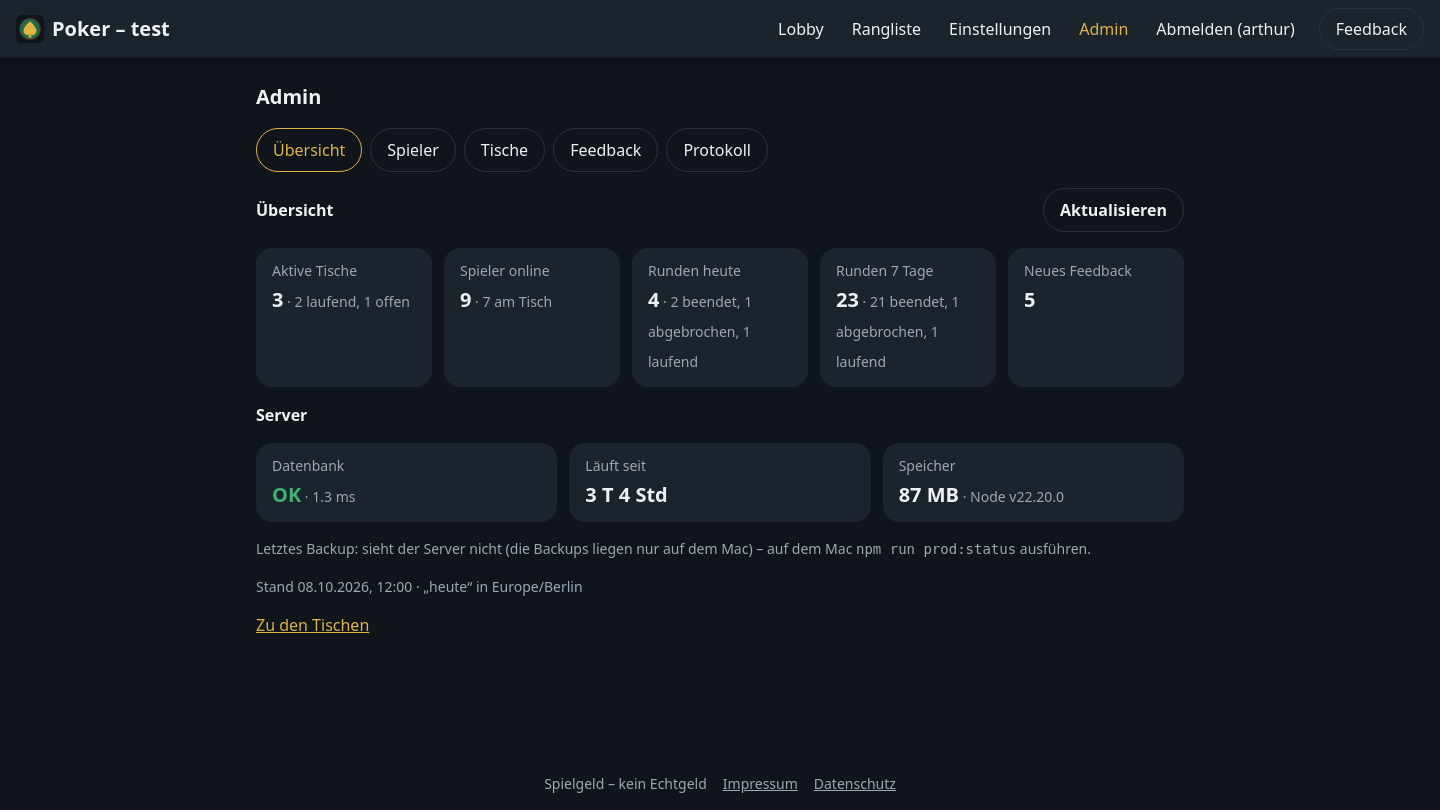
Test: Übersicht › Aktualisieren lädt neu; Serverfehler wird angezeigt
Expected: the element named "Kennzahlen" is shown, [256, 248, 1184, 387]
Step 1. Click the button "Aktualisieren" → (1114, 210), box [1043, 188, 1184, 232]
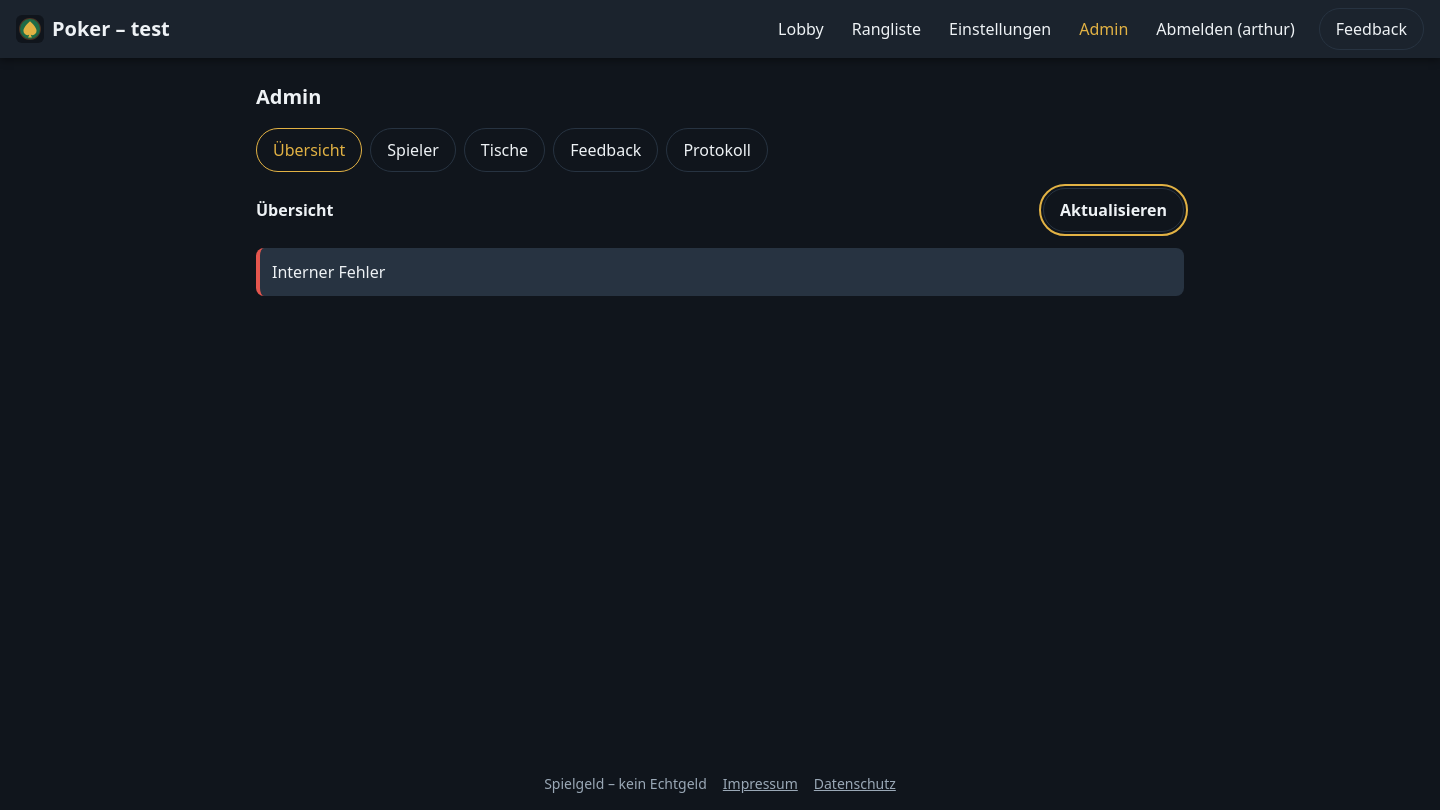
Expected: the message reads "Interner Fehler", [272, 261, 385, 283]
